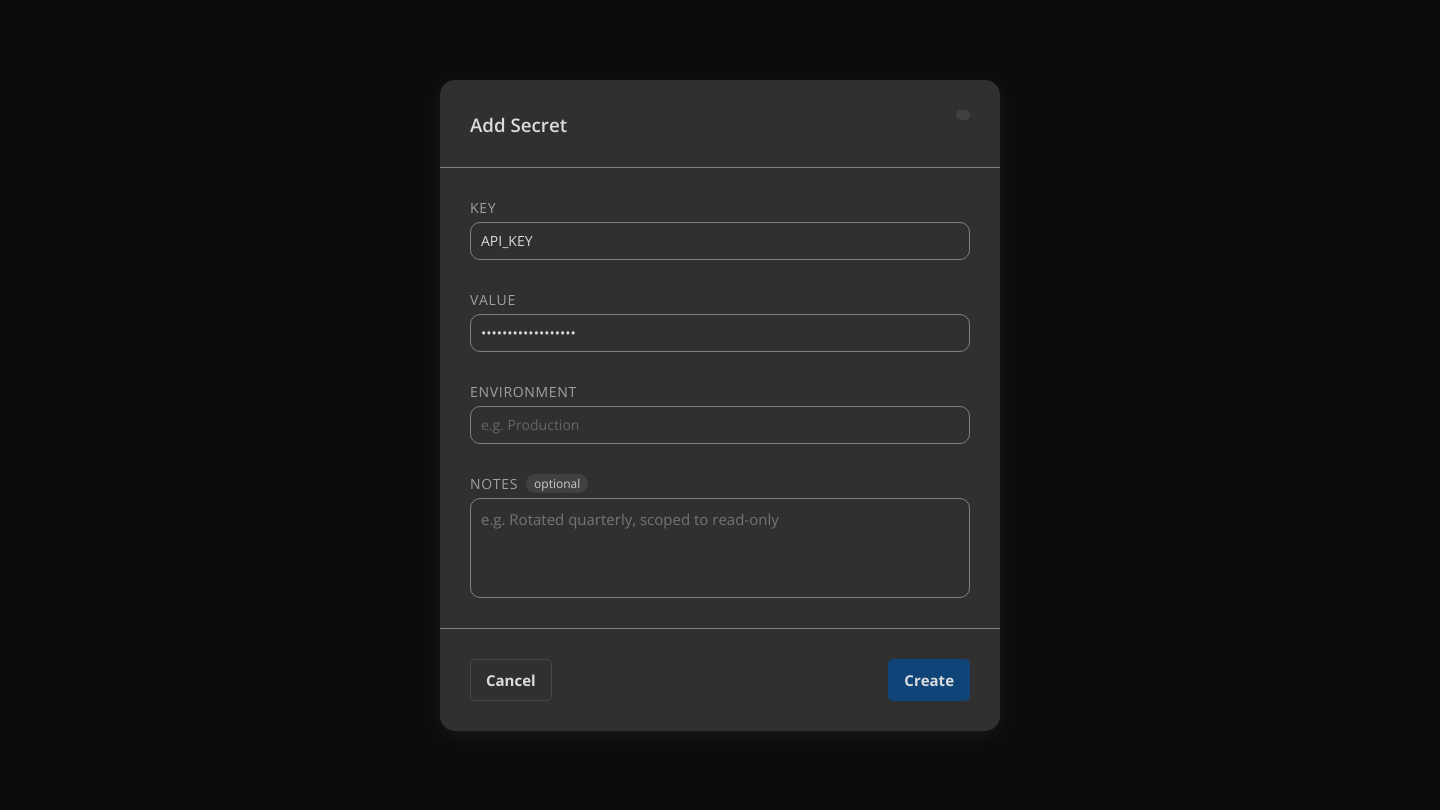
Scenario: the environment autocomplete › reports when nothing matches
This screenshot has width=1440, height=810.
Type "zzz" into the field with placeholder "e.g. Production" at (720, 424), box x1=470 y1=406 x2=970 y2=444
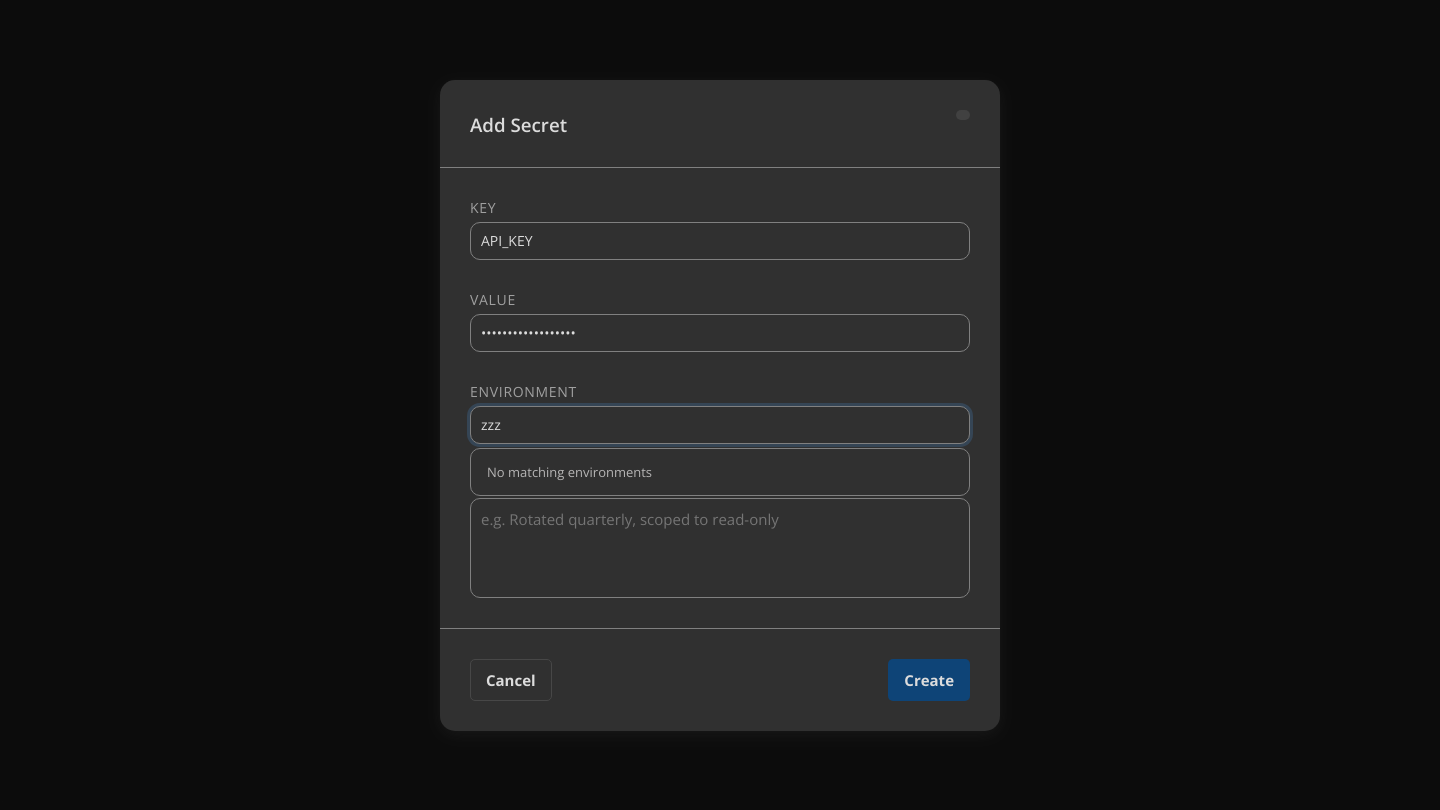
Expected: the list item "No matching environments" is shown, x1=487 y1=462 x2=652 y2=480
